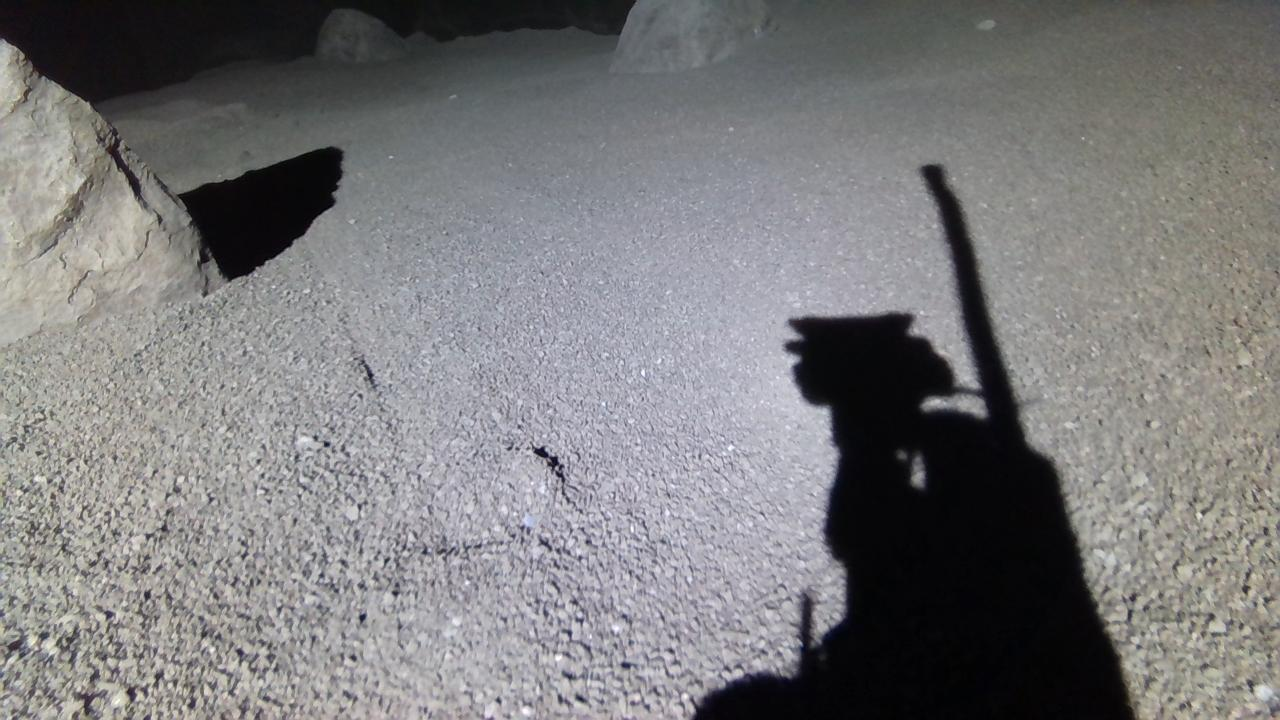rock: (612, 0, 772, 71), (315, 7, 405, 61)
